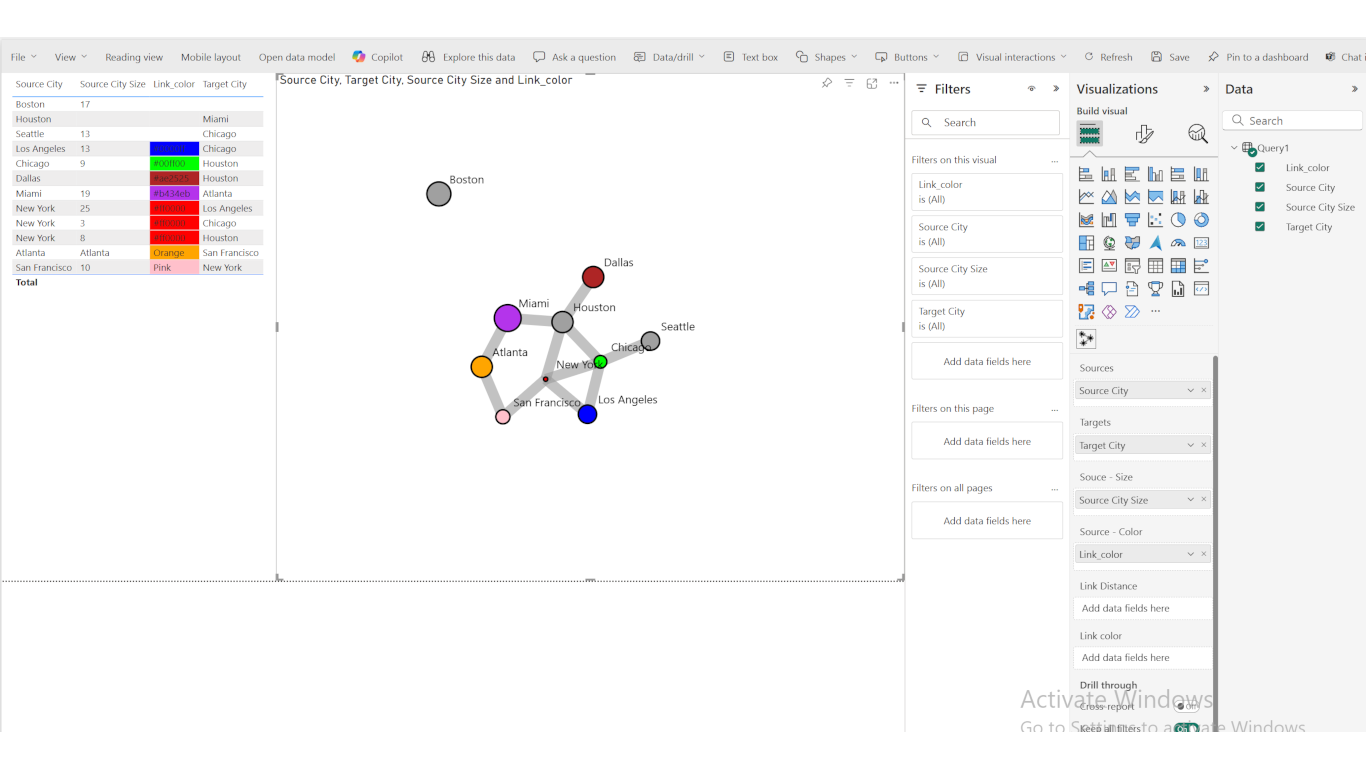

The dashboard page shown, as its layout file describes it:
{"tool":"powerbi","page":{"name":"Page 1","canvas":[1280,720],"ordinal":0},"visuals":[{"type":"tableEx","fields":{"Values":["Query1.Source City","Query1.Target City","Query1.Source City Size","Query1.Link_color"]},"box":[0,396.7,380.4,322.7],"z":0},{"type":"textbox","box":[0,0,380,397],"z":2},{"type":"constellationC3682F5F8D8B4E64AECF6369114FB8DD","fields":{"source_node":["Query1.Source City"],"target_node":["Query1.Target City"],"source_size":["Query1.Source City Size"],"source_fill":["Query1.Link_color"]},"box":[380.4,0,899.9,719.3],"z":3}]}

Visuals, with their boxes on the page's 1280x720 design canvas (x1, y1, x2, y2). These are canvas units, not pixel positions in the 1366x768 screenshot, which may show the page scaled, cropped or inside an application window:
tableEx - Query1.Source City x Query1.Target City: 0 397 380 719
textbox: 0 0 380 397
constellationC3682F5F8D8B4E64AECF6369114FB8DD - Query1.Source City x Query1.Target City: 380 0 1280 719
